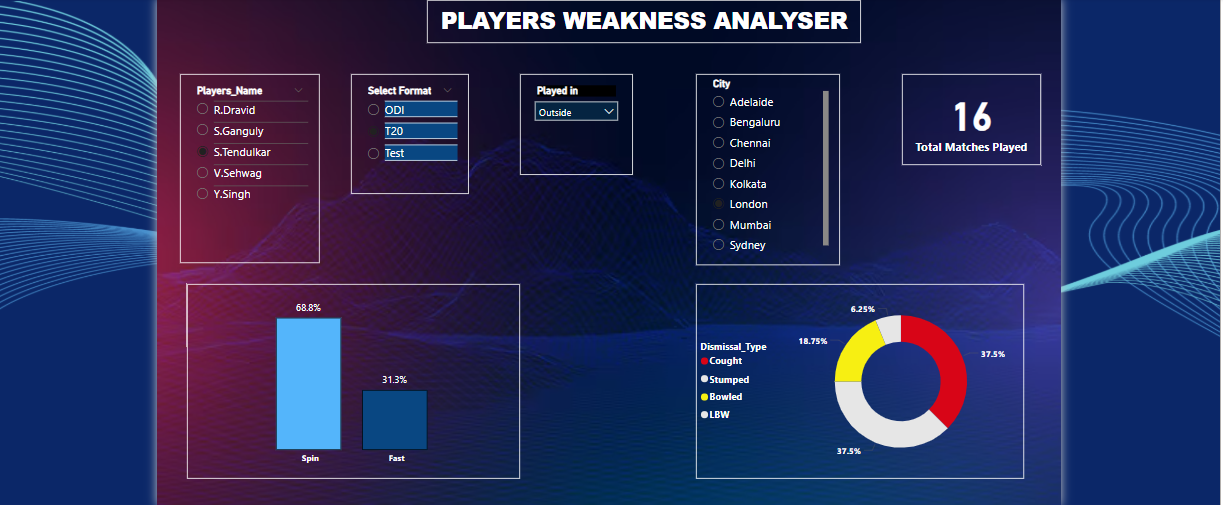

This screenshot's page, from the dashboard's own definition file:
{"tool":"powerbi","page":{"name":"Page 1","canvas":[1280,720],"ordinal":0},"visuals":[{"type":"slicer","fields":{"Values":["Players.Player_Name"]},"box":[32.6,107.7,198.4,267.9],"z":0},{"type":"slicer","fields":{"Values":["Formats.Match_Format"]},"box":[275,107.7,167.2,170.1],"z":1000},{"type":"slicer","fields":{"Values":["Locations.Location_Type"]},"box":[514.5,107.7,160.2,143.1],"z":2000},{"type":"slicer","fields":{"Values":["Stadiums.City"]},"box":[763.9,107.7,204.1,270.7],"z":3000},{"type":"clusteredColumnChart","title":"Dismissal Percentage by Bowler Type","fields":{"Category":["MatchDetails.Bowler_Type"],"Y":["MatchDetails.% Dismissals by Bowler Type"]},"box":[42.5,405.4,472,276.4],"z":4000},{"type":"donutChart","title":"Type by Dismissals","fields":{"Category":["MatchDetails.Dismissal_Type"],"Y":["MatchDetails.% Dismissals by Type"]},"box":[763.9,405.4,464.9,276.4],"z":5000},{"type":"card","fields":{"Values":["MatchDetails.Total Matches Played"]},"box":[1055.9,107.7,197,129],"z":6000},{"type":"textbox","box":[382.7,2.8,615.1,60.9],"z":7000}]}

Visuals, with their boxes in screenshot pixels (x1, y1, x2, y2):
slicer - Players.Player_Name: 185/78/323/264
slicer - Formats.Match_Format: 353/78/469/196
slicer - Locations.Location_Type: 519/78/630/177
slicer - Stadiums.City: 692/78/834/266
"Dismissal Percentage by Bowler Type" clusteredColumnChart: 192/284/519/476
"Type by Dismissals" donutChart: 692/284/1015/476
card - MatchDetails.Total Matches Played: 895/78/1031/167
textbox: 428/5/855/47
